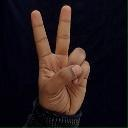hand: (30, 4, 90, 116)
